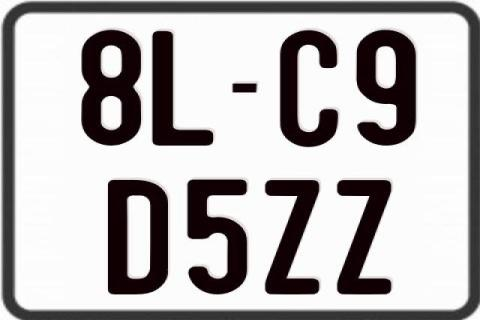0: (185, 178, 251, 294), (354, 30, 417, 148), (80, 28, 142, 145)
C: (280, 29, 338, 149)
D: (106, 180, 169, 298)
L: (152, 29, 218, 145)
Z: (264, 178, 320, 296), (336, 178, 392, 294)
